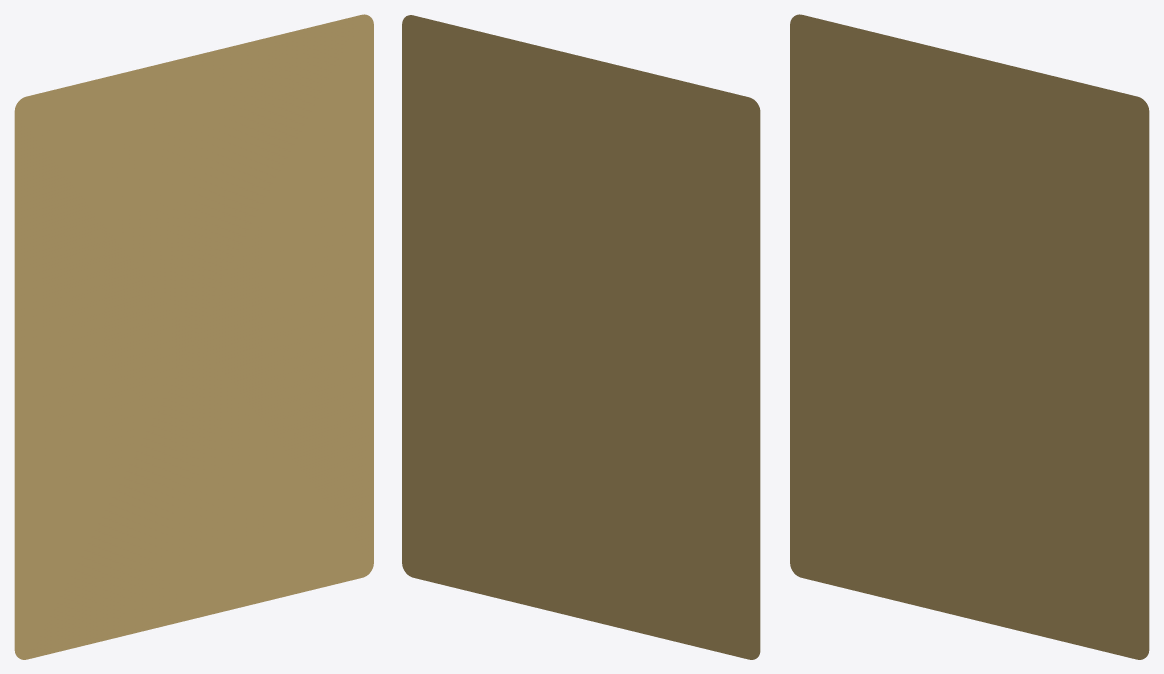
Rendered from card.glb.
3 renders of one model, left to right at view 1: azimuth 30°, elevation 25°; view 2: azimuth 150°, elevation 25°; view 3: azimuth 330°, elevation 25°, orthographic.
Parts seen in each view (by area): view 1: card_front, holo_trim; view 2: card_back; view 3: card_front, holo_trim.
Part boxes in pixels (x1=…): card_front: x1=15, y1=15, x2=373, y2=659; holo_trim: x1=14, y1=14, x2=368, y2=656; card_back: x1=402, y1=15, x2=760, y2=659; card_front: x1=790, y1=15, x2=1148, y2=659; holo_trim: x1=795, y1=14, x2=1149, y2=656.
Size of the model in its own units: 6.3 by 9.45 by 0.045.
